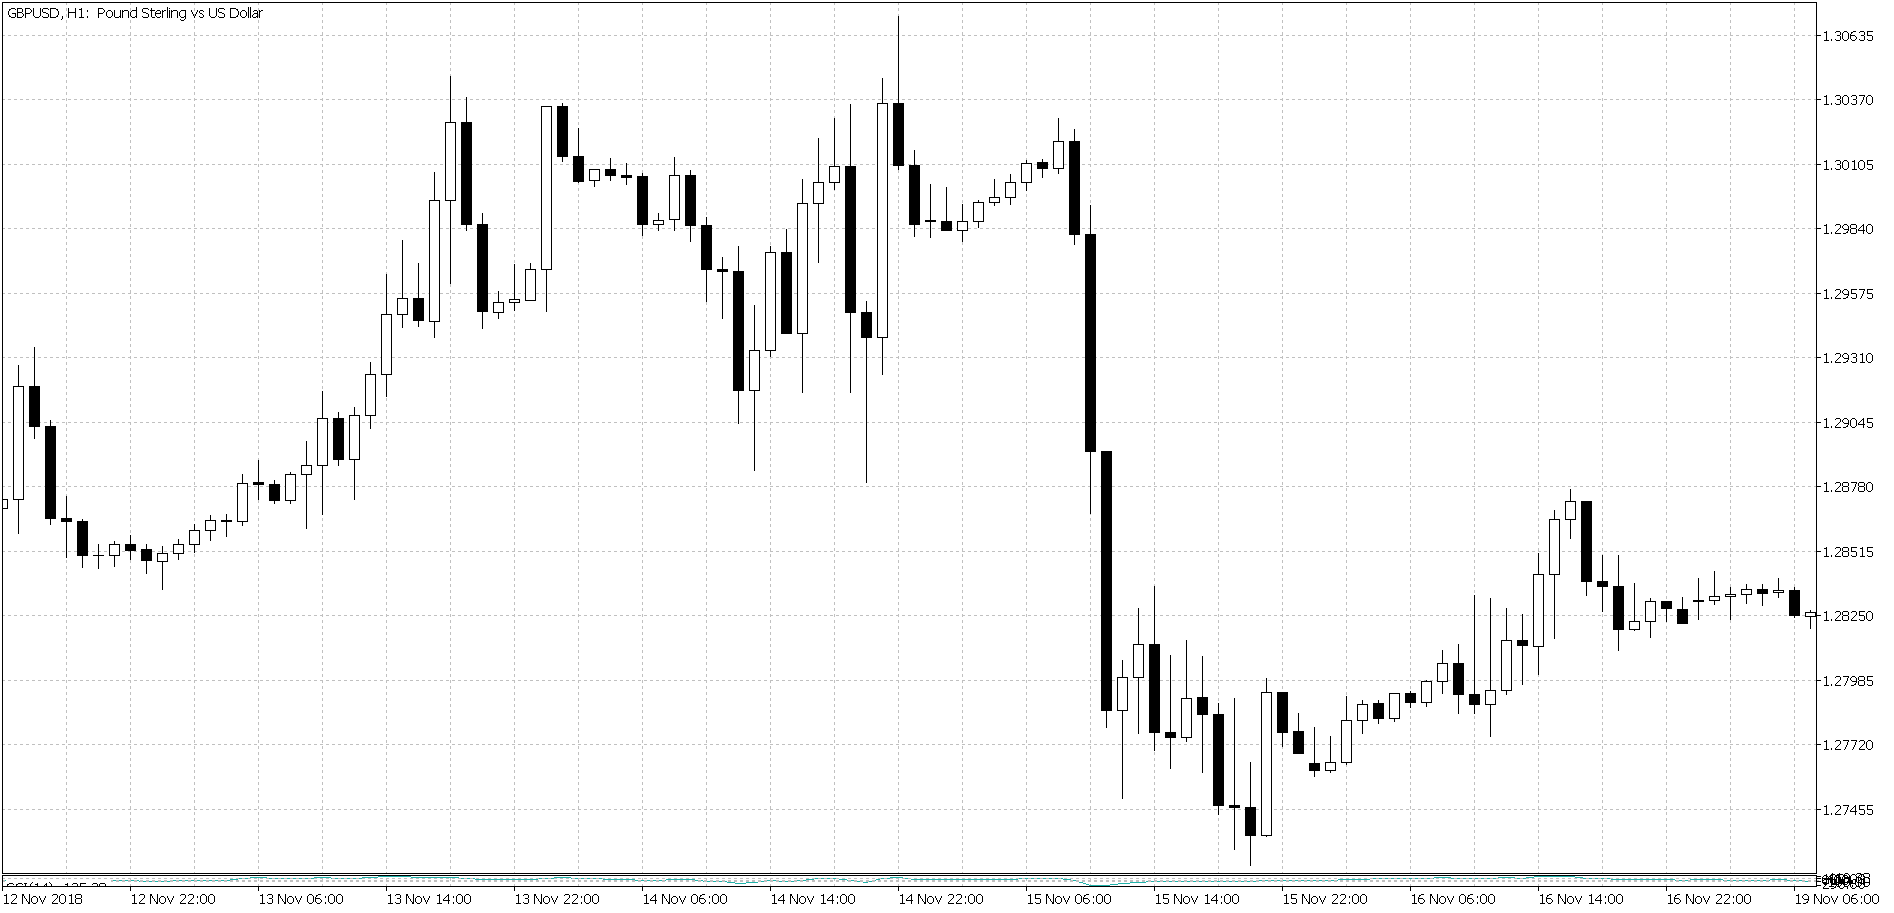bearishEngulfing: (1050, 114, 1083, 243)
hammer: (1627, 578, 1642, 638)
